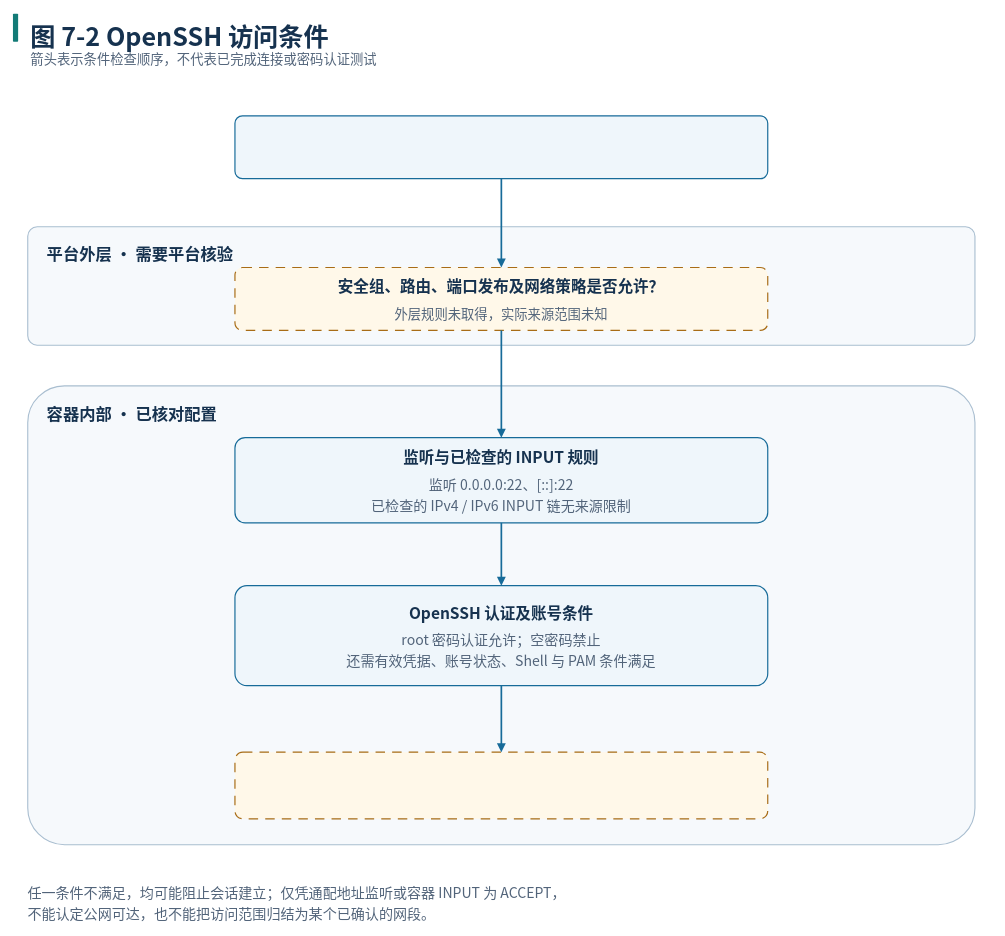
This 1005x936 diagram has some shape labels left out. The box of each missing label's shape, as (x1, y1, x2, y2) in pixels:
候选连接 连接目标：容器 OpenSSH TCP 22: (234, 115, 768, 179)
所有条件满足后才能建立会话 实际密码登录及密码强度未验证: (234, 751, 768, 819)
